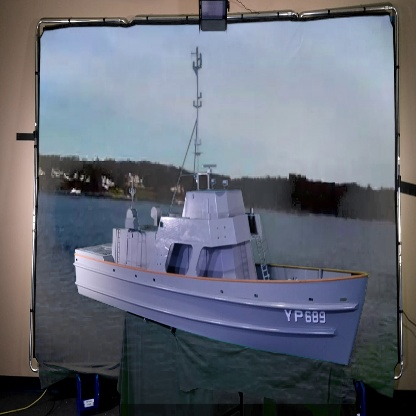YP689: (72, 43, 372, 370)
